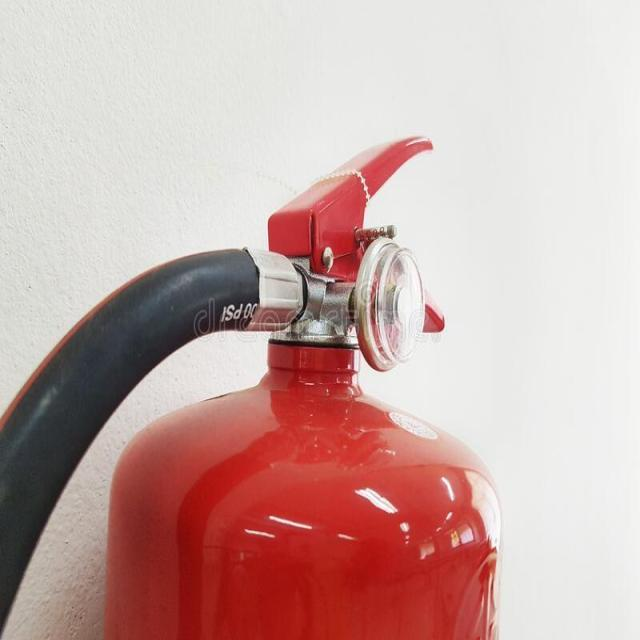fire_extinguisher: (0, 130, 509, 639)
